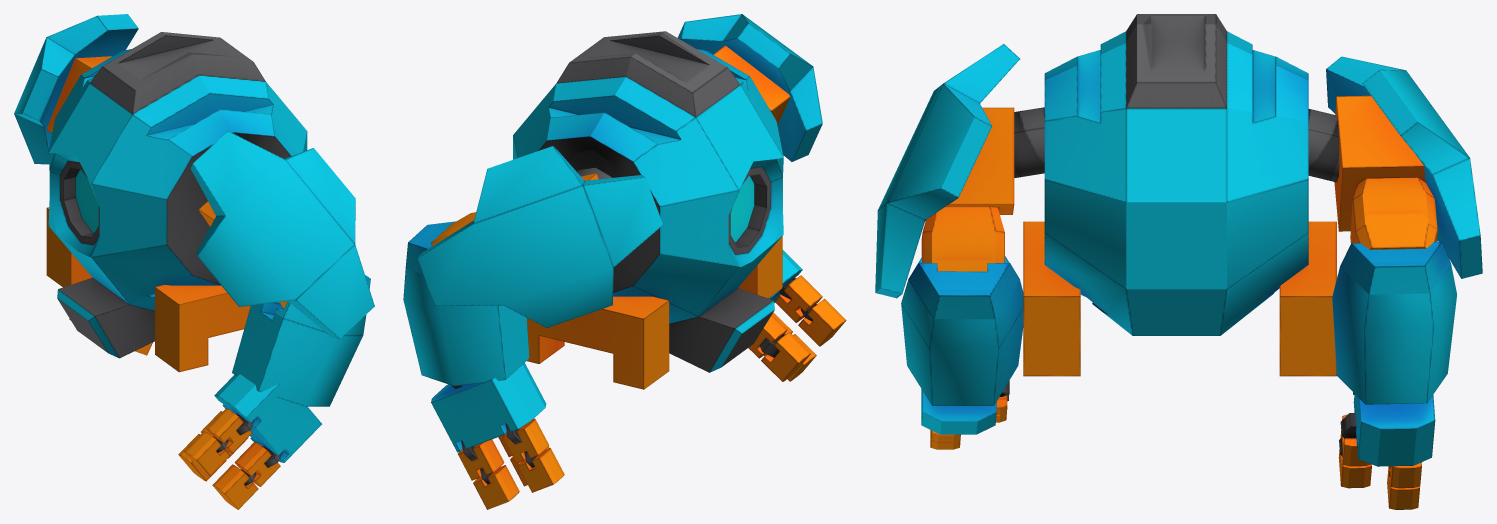
File: Body_Idle10.obj
3 views of the same model, side by side, from view 1: azimuth 30°, elevation 25°; view 2: azimuth 150°, elevation 25°; view 3: azimuth 270°, elevation 25° (orthographic). The views are drawn at different scales.
Parts seen in each view (by area): view 1: Plane001, Object006, Object008, Object007, Object002; view 2: Plane001, Object002, Object004, Object003, Object006, Object008; view 3: Plane001, Object002, Object006, Object003, Object007, Object004, Object008, Object001, Object005.
Part boxes in pixels (x1,y1,x2,y2): Plane001: (46, 32, 307, 372); Object006: (190, 131, 374, 338); Object008: (178, 374, 321, 509); Object007: (232, 275, 370, 406); Object002: (14, 14, 138, 164); Plane001: (513, 31, 783, 389); Object002: (417, 146, 662, 327); Object004: (431, 363, 564, 509); Object003: (403, 221, 529, 386); Object006: (677, 14, 822, 161); Object008: (748, 250, 846, 381); Plane001: (1023, 14, 1336, 376); Object002: (1326, 56, 1482, 278); Object006: (875, 44, 1019, 298); Object003: (1332, 241, 1456, 404); Object007: (901, 256, 1023, 405); Object004: (1338, 392, 1435, 509); Object008: (921, 380, 1009, 449); Object001: (1308, 109, 1339, 182); Object005: (1014, 107, 1044, 177).
Bounding box in the file's own units: 97.44 × 151 × 182.
